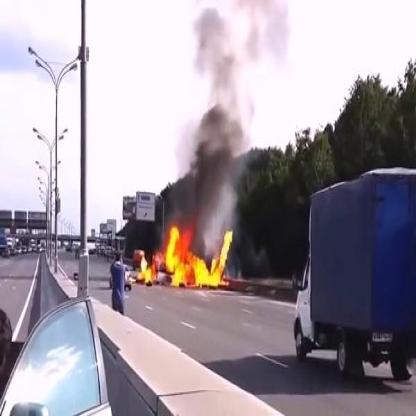fire: (162, 222, 235, 287), (134, 250, 154, 286)
